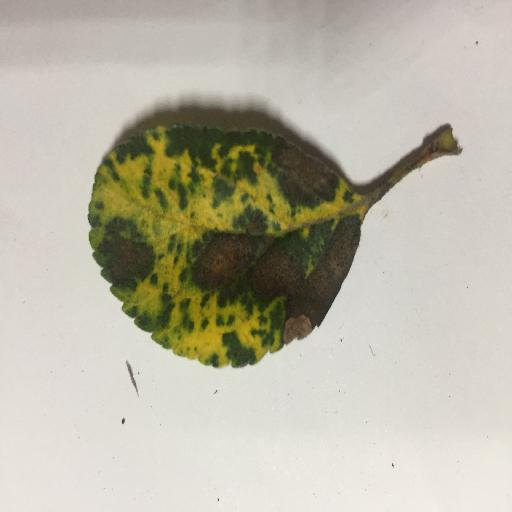Brown_Spot: (290, 226, 351, 333), (279, 149, 335, 194), (253, 246, 306, 289), (198, 242, 247, 278), (107, 242, 156, 276)
